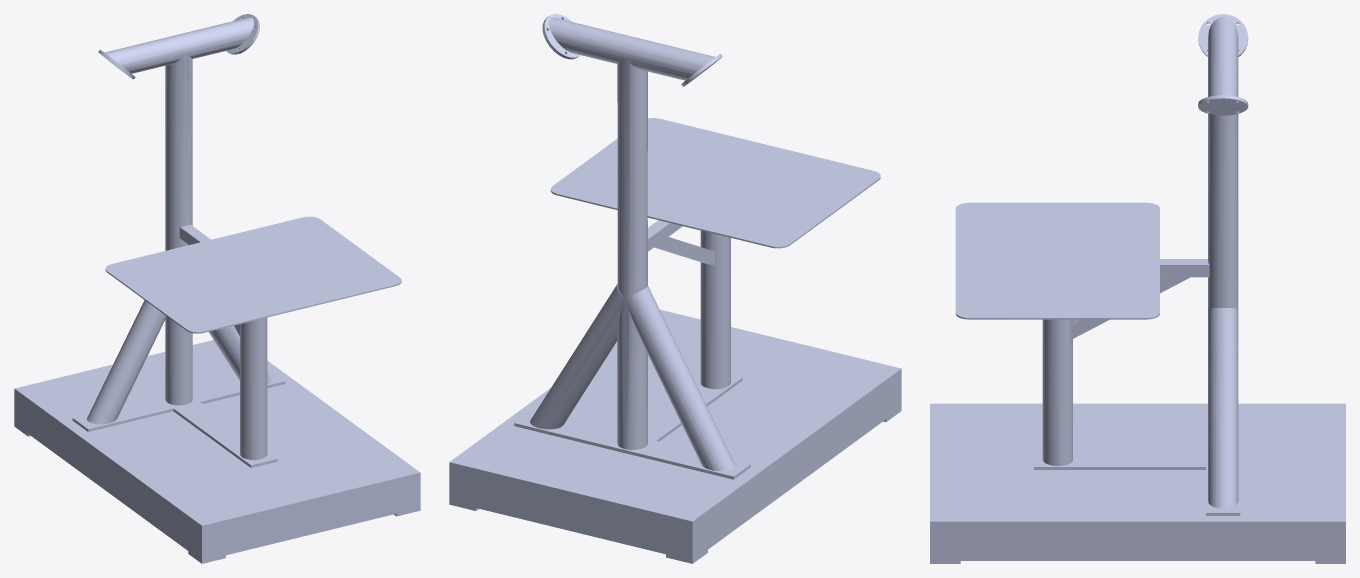
File: structure.dae
3 views of the same model, side by side, from view 1: azimuth 30°, elevation 25°; view 2: azimuth 150°, elevation 25°; view 3: azimuth 270°, elevation 25° (orthographic). The views are drawn at different scales.
Visible parts, largest first — view 1: Node_0x1c1d3a0; view 2: Node_0x1c1d3a0; view 3: Node_0x1c1d3a0.
Boxes of the visible parts, box(x1,y1,x2,y2) form: Node_0x1c1d3a0: box(14, 14, 420, 563); Node_0x1c1d3a0: box(449, 14, 901, 563); Node_0x1c1d3a0: box(930, 14, 1345, 563).
Size of the model in its own units: 0.82 by 1.46 by 1.22.
